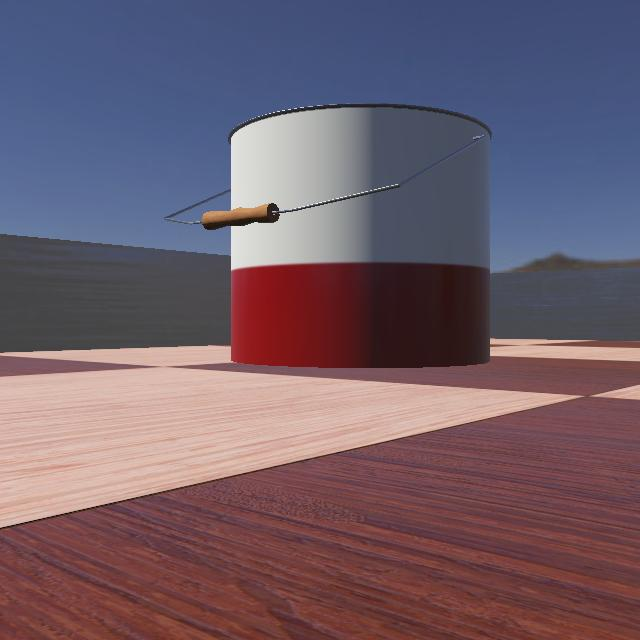paint-bucket: (110, 76, 552, 377)
